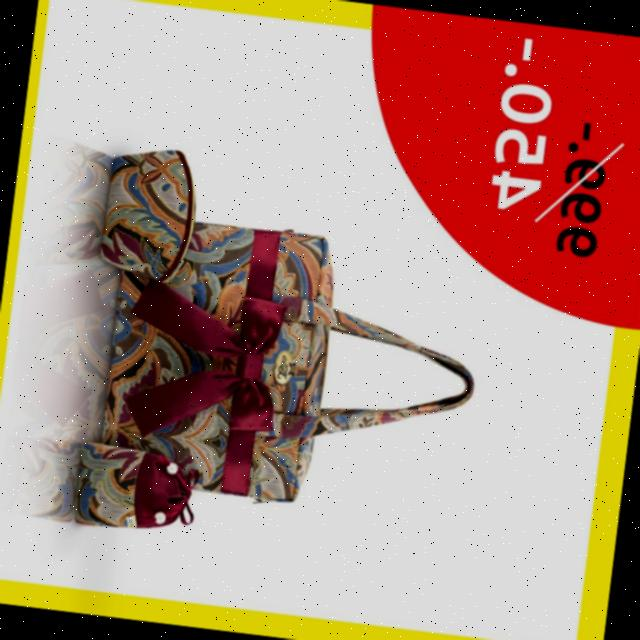Handbag: (80, 210, 348, 509), (64, 426, 210, 544), (93, 137, 207, 282)
